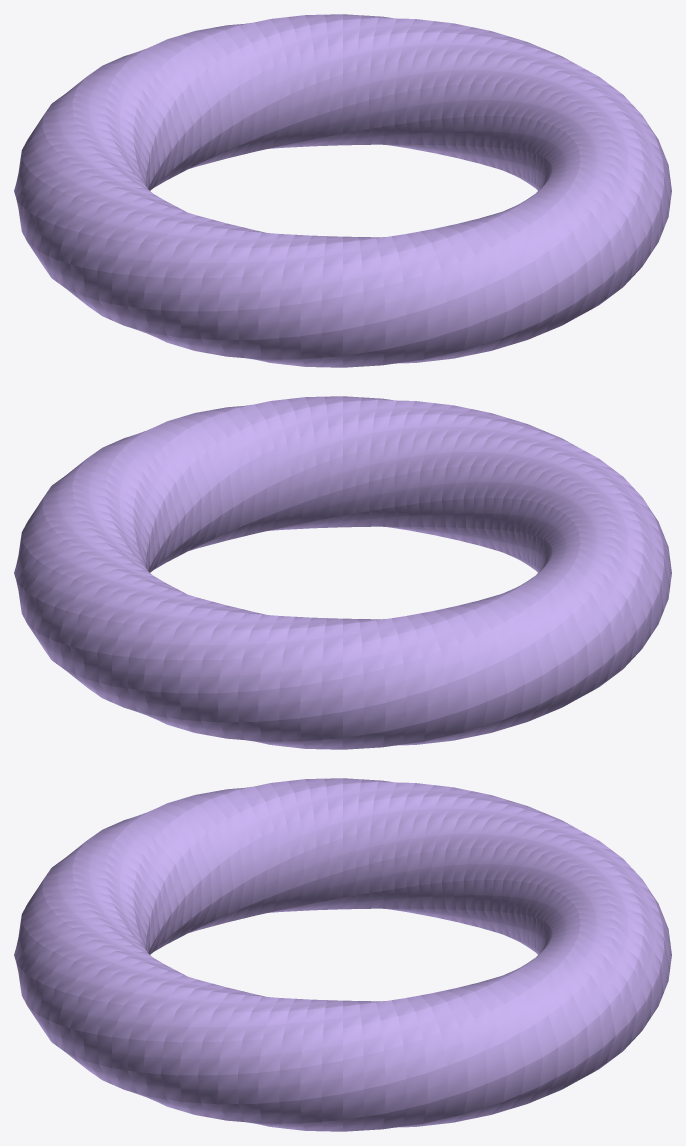
The model's file is twistedtorus.glb.
The picture shows the model from 3 angles, top to bottom: view 1: azimuth 30°, elevation 25°; view 2: azimuth 150°, elevation 25°; view 3: azimuth 270°, elevation 25°; orthographic projection.
Visible parts, largest first — view 1: TwistedTorus; view 2: TwistedTorus; view 3: TwistedTorus.
Boxes of the visible parts, x1,y1,x2,y2 form: TwistedTorus: (14, 14, 671, 367); TwistedTorus: (14, 396, 671, 749); TwistedTorus: (14, 778, 671, 1131).
Bounding box in the file's own units: 2.5 × 0.5 × 2.5.
